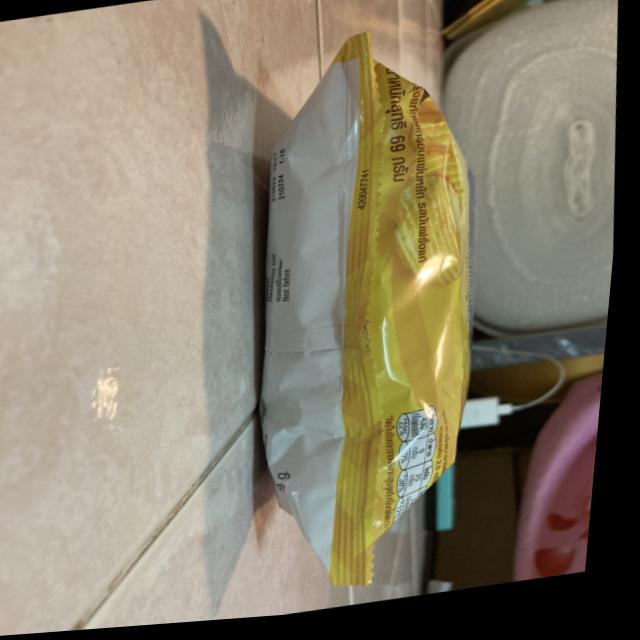LayYellow: (184, 15, 549, 609)
